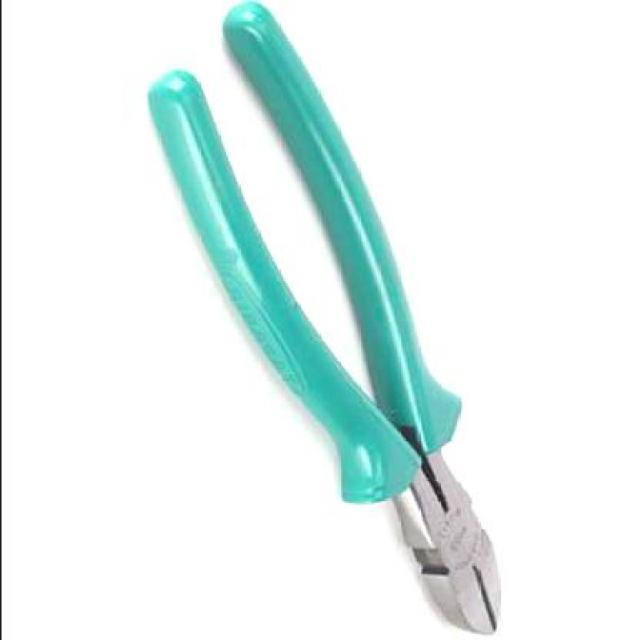pliers: (141, 0, 527, 632)
